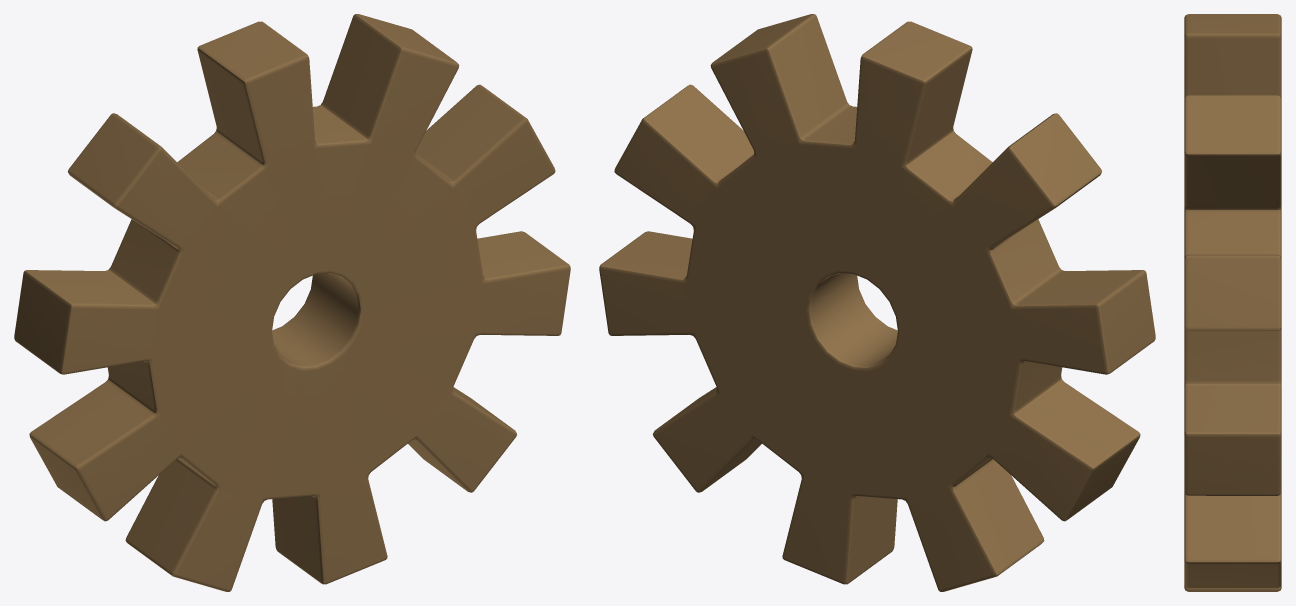
The model's file is cogDesignFlared.fbx.
3 views of the same model, side by side, from view 1: azimuth 30°, elevation 25°; view 2: azimuth 150°, elevation 25°; view 3: azimuth 270°, elevation 25° (orthographic).
Parts seen in each view (by area): view 1: cogDesignFlared; view 2: cogDesignFlared; view 3: cogDesignFlared.
Boxes of the visible parts, <box> form: cogDesignFlared: <box>14,14,570,591</box>; cogDesignFlared: <box>599,14,1155,591</box>; cogDesignFlared: <box>1184,14,1281,591</box>.
Bounding box in the file's own units: 175 × 176 × 29.29.
